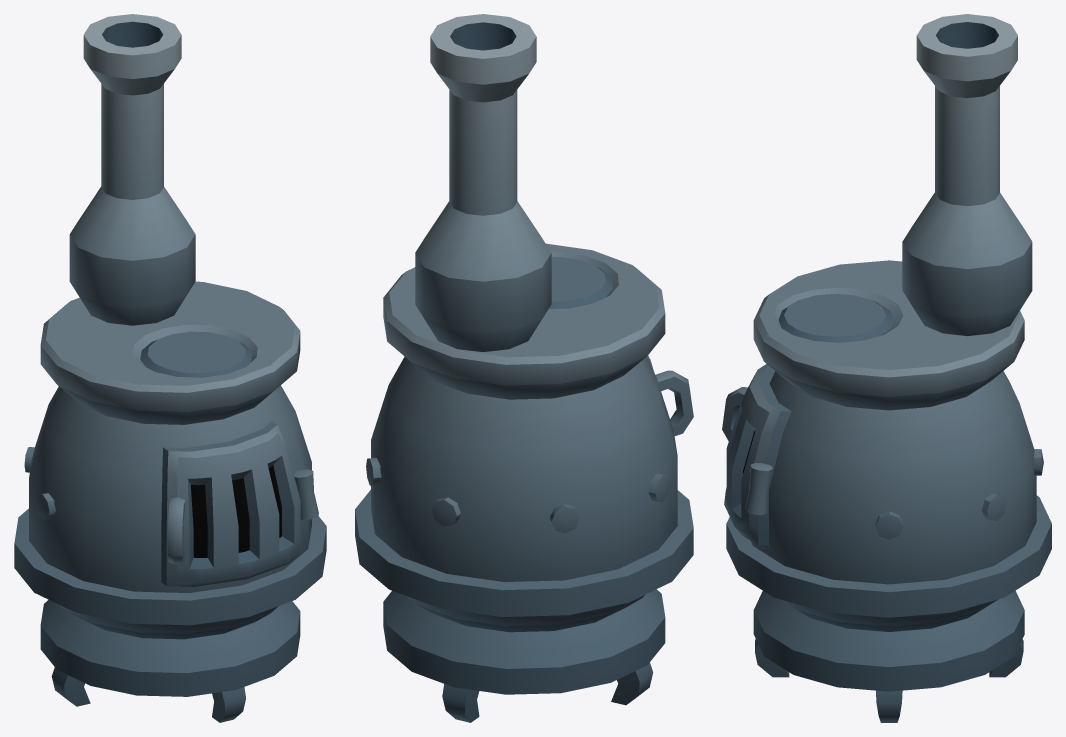
File: woodstove.glb
3 views of the same model, side by side, from view 1: azimuth 30°, elevation 25°; view 2: azimuth 150°, elevation 25°; view 3: azimuth 270°, elevation 25° (orthographic). The views are drawn at different scales.
Parts seen in each view (by area): view 1: woodstove; view 2: woodstove; view 3: woodstove.
Part boxes in pixels (left/top/right/bottom): woodstove: left=14, top=14, right=326, bottom=722; woodstove: left=355, top=14, right=693, bottom=722; woodstove: left=722, top=14, right=1051, bottom=722.
Bounding box in the file's own units: 1.2 × 2.6 × 1.22.
Materials: 1 (1 with a texture image).
